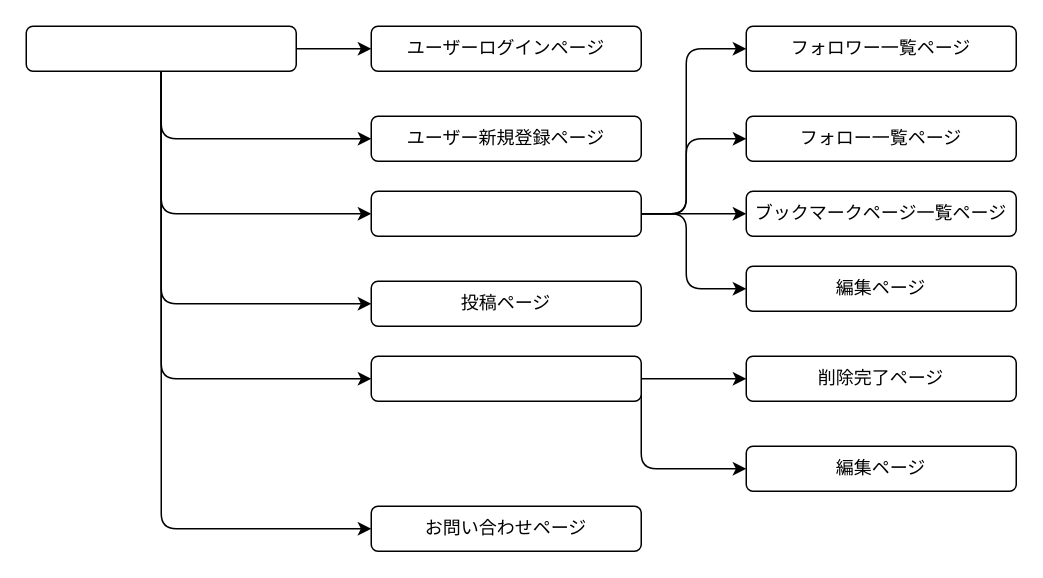
Some shapes in this 1043 by 578 pixel diagram are drawn without their labels. The centre of each missing label's shape, as x and y in pixels:
"ユーザーマイページ" goes at (505,213).
"一覧ページ" goes at (160,48).
"詳細ページ" goes at (505,378).
